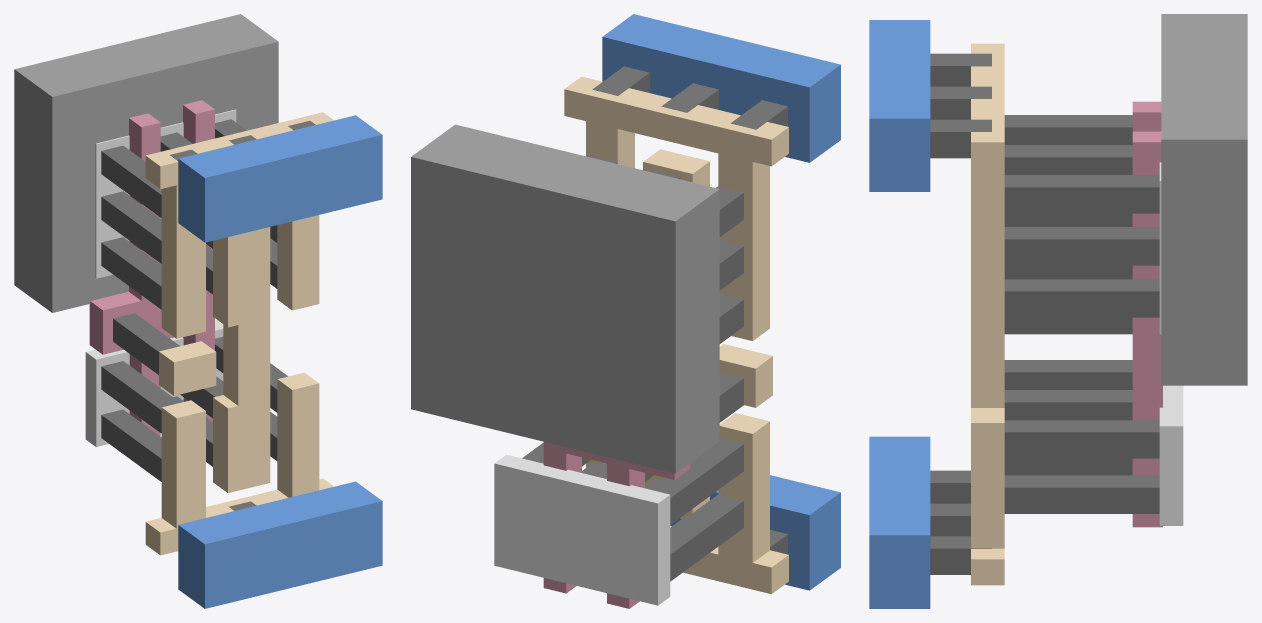
File: sky130_fd_sc_hd__inv_2.gds.gltf
The picture shows the model from 3 angles, left to right: view 1: azimuth 30°, elevation 25°; view 2: azimuth 150°, elevation 25°; view 3: azimuth 270°, elevation 25°; orthographic projection. The views are drawn at different scales.
Parts seen in each view (by area): view 1: sky130_fd_sc_hd__inv_2_li1, sky130_fd_sc_hd__inv_2_nwell, sky130_fd_sc_hd__inv_2_met1, sky130_fd_sc_hd__inv_2_licon, sky130_fd_sc_hd__inv_2_poly, sky130_fd_sc_hd__inv_2_diff, sky130_fd_sc_hd__inv_2_mcon; view 2: sky130_fd_sc_hd__inv_2_nwell, sky130_fd_sc_hd__inv_2_li1, sky130_fd_sc_hd__inv_2_met1, sky130_fd_sc_hd__inv_2_diff, sky130_fd_sc_hd__inv_2_licon, sky130_fd_sc_hd__inv_2_mcon, sky130_fd_sc_hd__inv_2_poly; view 3: sky130_fd_sc_hd__inv_2_licon, sky130_fd_sc_hd__inv_2_nwell, sky130_fd_sc_hd__inv_2_met1, sky130_fd_sc_hd__inv_2_li1, sky130_fd_sc_hd__inv_2_mcon, sky130_fd_sc_hd__inv_2_poly, sky130_fd_sc_hd__inv_2_diff.
Boxes of the visible parts, x1,y1,x2,y2 form: sky130_fd_sc_hd__inv_2_li1: (145, 112, 333, 555); sky130_fd_sc_hd__inv_2_nwell: (14, 14, 278, 312); sky130_fd_sc_hd__inv_2_met1: (178, 115, 382, 608); sky130_fd_sc_hd__inv_2_licon: (101, 119, 287, 481); sky130_fd_sc_hd__inv_2_poly: (89, 100, 214, 436); sky130_fd_sc_hd__inv_2_diff: (85, 109, 236, 446); sky130_fd_sc_hd__inv_2_mcon: (170, 120, 315, 510); sky130_fd_sc_hd__inv_2_nwell: (411, 124, 719, 473); sky130_fd_sc_hd__inv_2_li1: (564, 76, 788, 594); sky130_fd_sc_hd__inv_2_met1: (602, 14, 840, 590); sky130_fd_sc_hd__inv_2_diff: (494, 454, 670, 605); sky130_fd_sc_hd__inv_2_licon: (522, 155, 743, 581); sky130_fd_sc_hd__inv_2_mcon: (592, 66, 787, 554); sky130_fd_sc_hd__inv_2_poly: (543, 442, 690, 608); sky130_fd_sc_hd__inv_2_licon: (1004, 115, 1159, 513); sky130_fd_sc_hd__inv_2_nwell: (1161, 14, 1247, 385); sky130_fd_sc_hd__inv_2_met1: (869, 20, 930, 608); sky130_fd_sc_hd__inv_2_li1: (971, 43, 1004, 585); sky130_fd_sc_hd__inv_2_mcon: (930, 53, 991, 574); sky130_fd_sc_hd__inv_2_poly: (1132, 101, 1162, 527); sky130_fd_sc_hd__inv_2_diff: (1159, 162, 1183, 525).
Size of the model in its own units: 1.76 by 3.2 by 2.24.
